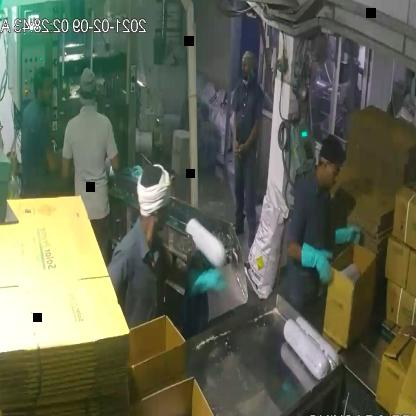glove: (173, 255, 230, 312), (290, 239, 340, 286), (330, 220, 365, 253)
no_glove: (233, 118, 264, 162), (229, 110, 241, 154)
